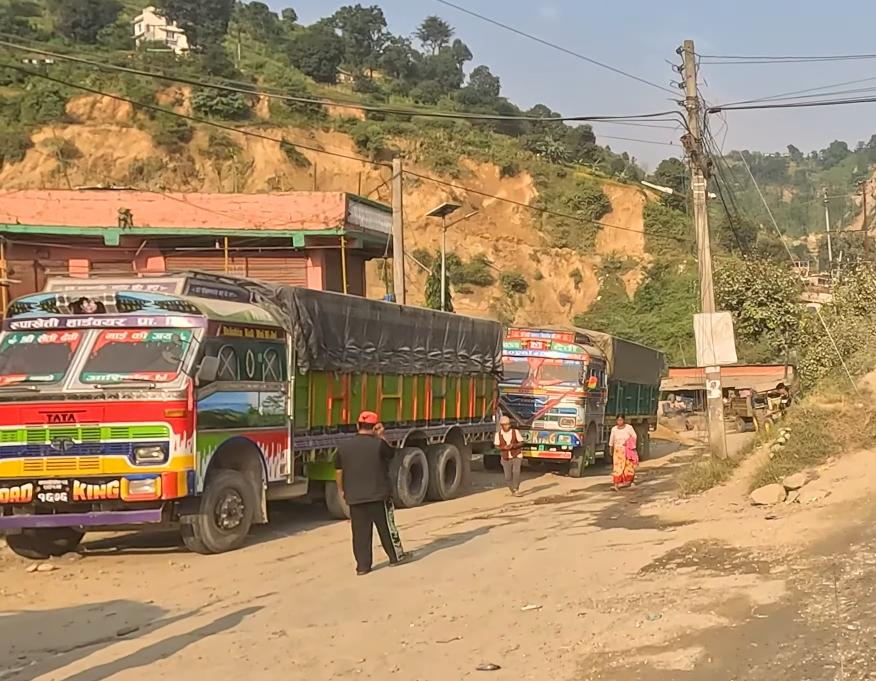truck: (0, 263, 504, 558), (494, 324, 668, 477)
